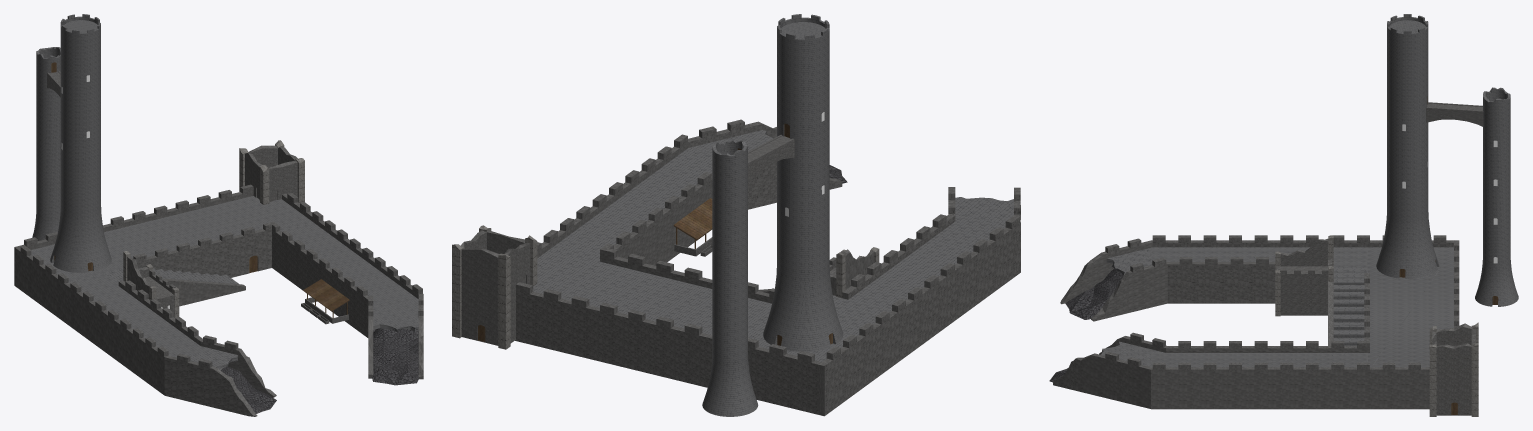
The model's file is Utgard Castle Finished and Cleaned 1.fbx.
3 renders of one model, left to right at view 1: azimuth 30°, elevation 25°; view 2: azimuth 150°, elevation 25°; view 3: azimuth 270°, elevation 25°, orthographic. The views are drawn at different scales.
Parts seen in each view (by area): view 1: Cylinder.003, Cube.005, Cube.003, Cylinder, Cube.034, Cube.020, Cube.002, Cube.024, Cube.019, escombros 1.001, Cube, Cube.078 (+19 smaller); view 2: Cylinder.003, Cube.006, Cube.003, Cylinder, Cube.005, Cube.024, Cube, Cube.002, Cube.019, Cube.078, Cube.018, Cube.036 (+15 smaller); view 3: Cube.004, Cylinder.003, Cube.005, Cylinder, Cube.008, Cube.034, Cube.032, Cube.051, Cube, Cube.002, Cube.024, Cube.009 (+15 smaller).
Part boxes in pixels (x1,y1,x2,y2): Cylinder.003: [50, 14, 111, 272]; Cube.005: [31, 196, 313, 281]; Cube.003: [14, 246, 168, 395]; Cylinder: [32, 47, 60, 240]; Cube.034: [164, 341, 276, 416]; Cube.020: [137, 229, 271, 277]; Cube.002: [280, 222, 418, 309]; Cube.024: [69, 273, 209, 357]; Cube.019: [272, 231, 368, 337]; escombros 1.001: [372, 328, 418, 385]; Cube: [245, 145, 297, 202]; Cube.078: [20, 246, 168, 358]; Cylinder.003: [763, 14, 843, 351]; Cube.006: [515, 291, 825, 414]; Cube.003: [818, 222, 1020, 416]; Cylinder: [702, 140, 758, 416]; Cube.005: [533, 248, 863, 361]; Cube.024: [835, 214, 1005, 324]; Cube: [460, 230, 530, 345]; Cube.002: [551, 147, 712, 259]; Cube.019: [614, 173, 712, 265]; Cube.078: [826, 215, 1019, 362]; Cube.018: [516, 282, 814, 362]; Cube.036: [537, 134, 687, 251]; Cube.004: [1151, 367, 1429, 409]; Cylinder.003: [1376, 14, 1439, 278]; Cube.005: [1367, 247, 1453, 367]; Cylinder: [1475, 87, 1518, 306]; Cube.008: [1166, 262, 1275, 303]; Cube.034: [1060, 240, 1167, 321]; Cube.032: [1053, 353, 1150, 408]; Cube.051: [1276, 238, 1332, 315]; Cube: [1432, 323, 1475, 415]; Cube.002: [1151, 352, 1367, 367]; Cube.024: [1151, 247, 1367, 267]; Cube.009: [1333, 285, 1364, 345].
Bounding box in the file's own units: 15133 × 14378 × 21775.
